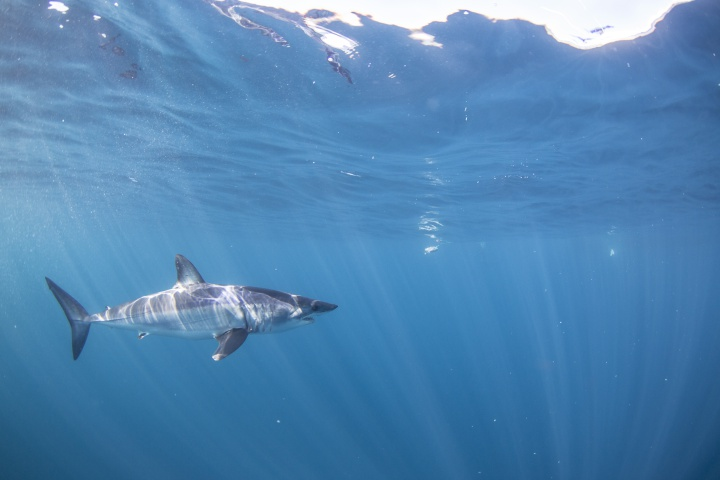Mako: (38, 249, 346, 376)
